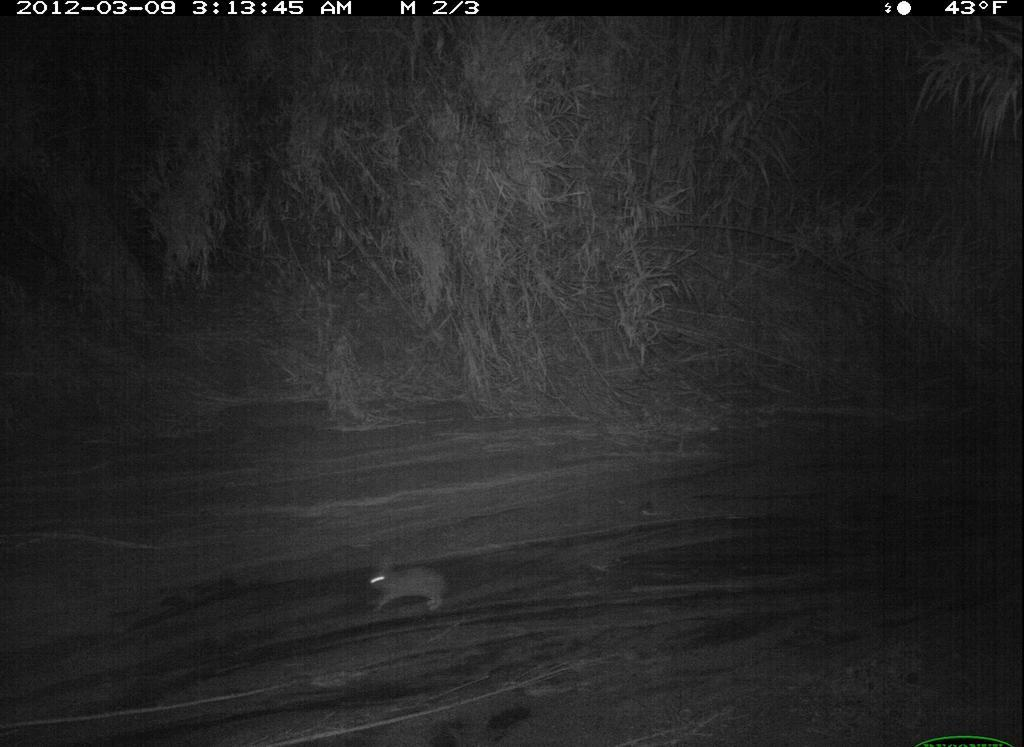rabbit: (358, 541, 456, 624)
